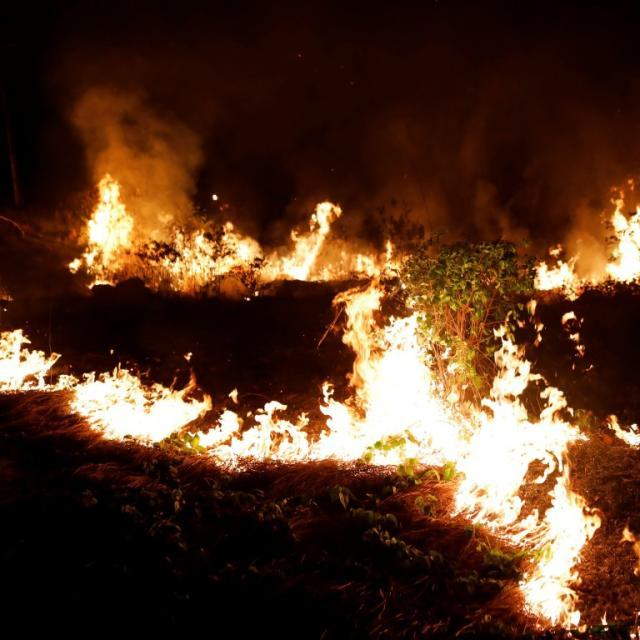Fire: (343, 343, 640, 632), (0, 312, 339, 502), (343, 178, 640, 344), (62, 180, 340, 306)
Smoke: (346, 75, 604, 214), (54, 47, 220, 176)
